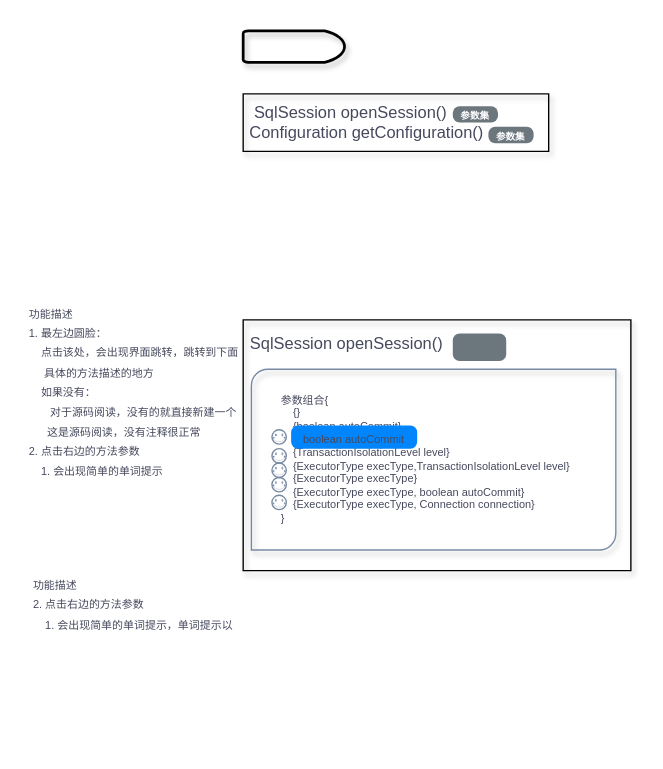
This 663x769 diagram has some shape labels left out. Here are the shapes that lost their labels. From the top down, the centre of each, then its label:
the point at 294,48: 方式一
the point at 479,346: 参数
